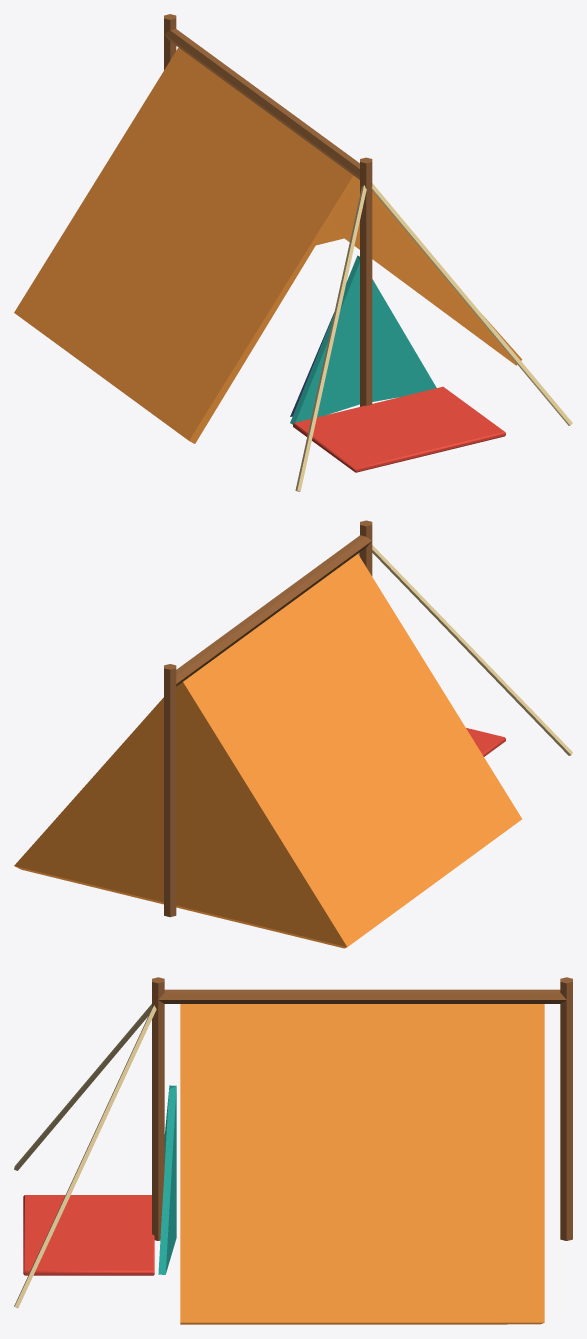
The model's file is home_tent.fbx.
3 views of the same model, one above another, from view 1: azimuth 30°, elevation 25°; view 2: azimuth 150°, elevation 25°; view 3: azimuth 270°, elevation 25° (orthographic). The views are drawn at different scales.
Visible parts, largest first — view 1: home_tent; view 2: home_tent; view 3: home_tent.
Part boxes in pixels (x1,y1,x2,y2): home_tent: [14, 14, 572, 491]; home_tent: [14, 520, 572, 948]; home_tent: [14, 977, 572, 1324].
Size of the model in its own units: 1.1 by 0.7952 by 1.53.
